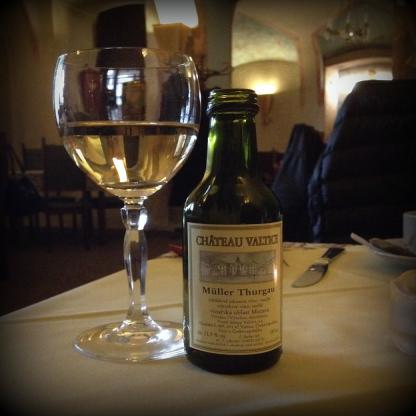drinking: (53, 46, 202, 364), (182, 89, 284, 376)
